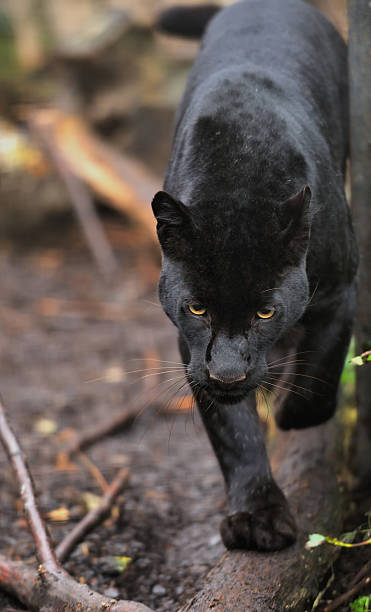panther: (144, 186, 327, 412)
